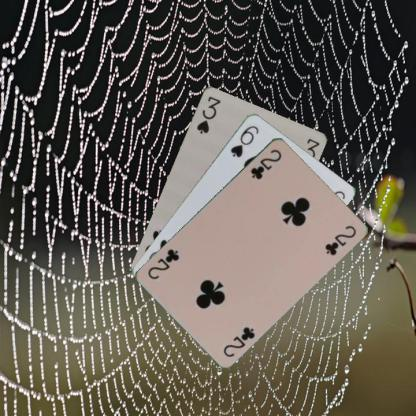2c: (248, 146, 283, 181), (221, 324, 256, 358)
3s: (193, 93, 222, 135)
6s: (228, 122, 260, 159)
